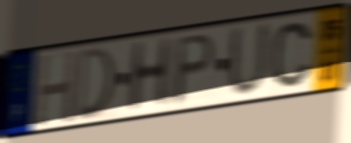C: (270, 20, 315, 91)
D: (74, 43, 117, 125)
H: (125, 35, 175, 117), (33, 48, 79, 130)
P: (170, 30, 219, 109)
U: (226, 18, 272, 101)
